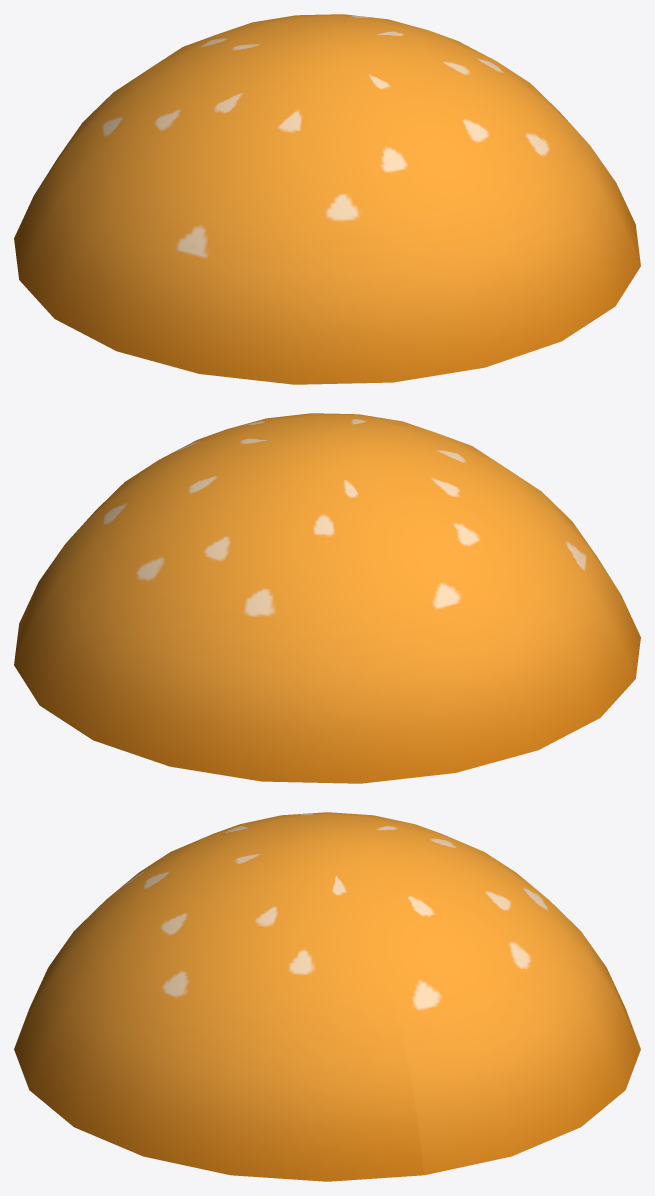
The model's file is Bun2.obj.
The picture shows the model from 3 angles, top to bottom: view 1: azimuth 30°, elevation 25°; view 2: azimuth 150°, elevation 25°; view 3: azimuth 270°, elevation 25°; orthographic projection.
Visible parts, largest first — view 1: polySurface17 polySurface16; view 2: polySurface17 polySurface16; view 3: polySurface17 polySurface16.
Boxes of the visible parts, bbox=[...] form: polySurface17 polySurface16: bbox=[14, 14, 640, 384]; polySurface17 polySurface16: bbox=[14, 413, 640, 783]; polySurface17 polySurface16: bbox=[14, 812, 640, 1181].
Bounding box in the file's own units: 2.03 × 0.7381 × 2.03.
Materials: 1 (1 with a texture image).
